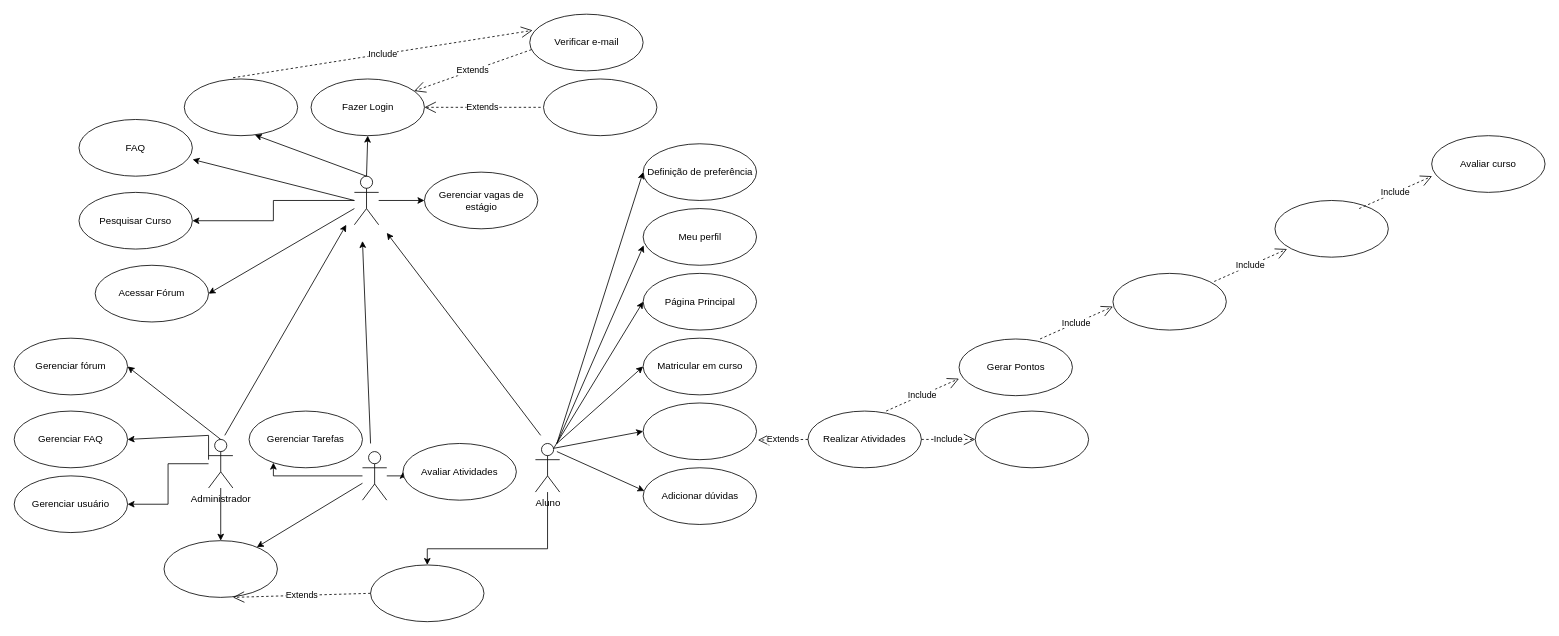
The diagram is 1559 pixels wide and 636 high, and some of its shapes have lost their labels. Each missing label, with the centre of its shape:
"Assistir Aulas" belongs at pixel 699 431.
"Avisos e Notificações" belongs at pixel 427 593.
"Fazer logout" belongs at pixel 600 107.
"Gerar certificado" belongs at pixel 1031 439.
"Gerenciar curso" belongs at pixel 220 568.
"Instrutor" belongs at pixel 374 475.
"Obter emblema após finalização de curos" belongs at pixel 1331 228.
"Ranking de pontuação" belongs at pixel 1169 301.
"recuperar senha" belongs at pixel 240 107.
"Usuário" belongs at pixel 366 200.
